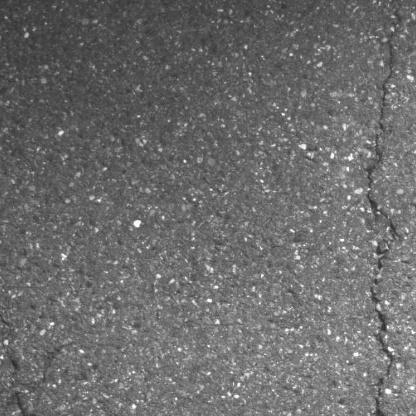Cracks: (362, 0, 408, 416), (0, 267, 24, 378), (11, 390, 39, 416)
